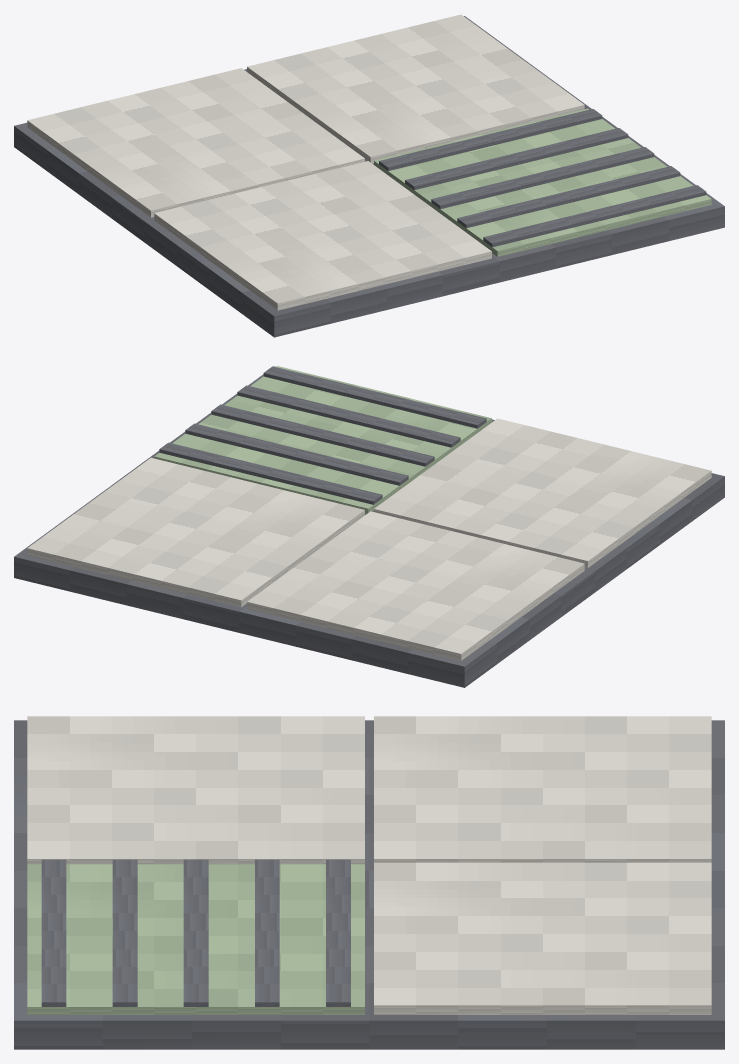
File: pixel-modern-city-street-pavement-tree-pit-0a4cec50__28992.glb
3 views of the same model, one above another, from view 1: azimuth 30°, elevation 25°; view 2: azimuth 150°, elevation 25°; view 3: azimuth 270°, elevation 25° (orthographic). The views are drawn at different scales.
Parts seen in each view (by area): view 1: pavement-tree-pit; view 2: pavement-tree-pit; view 3: pavement-tree-pit.
Part boxes in pixels (<box>): pavement-tree-pit: <box>14,14,724,337</box>; pavement-tree-pit: <box>14,366,724,687</box>; pavement-tree-pit: <box>14,716,724,1049</box>.
Bounding box in the file's own units: 4 × 0.2598 × 4.
3 materials, 3 textured.
